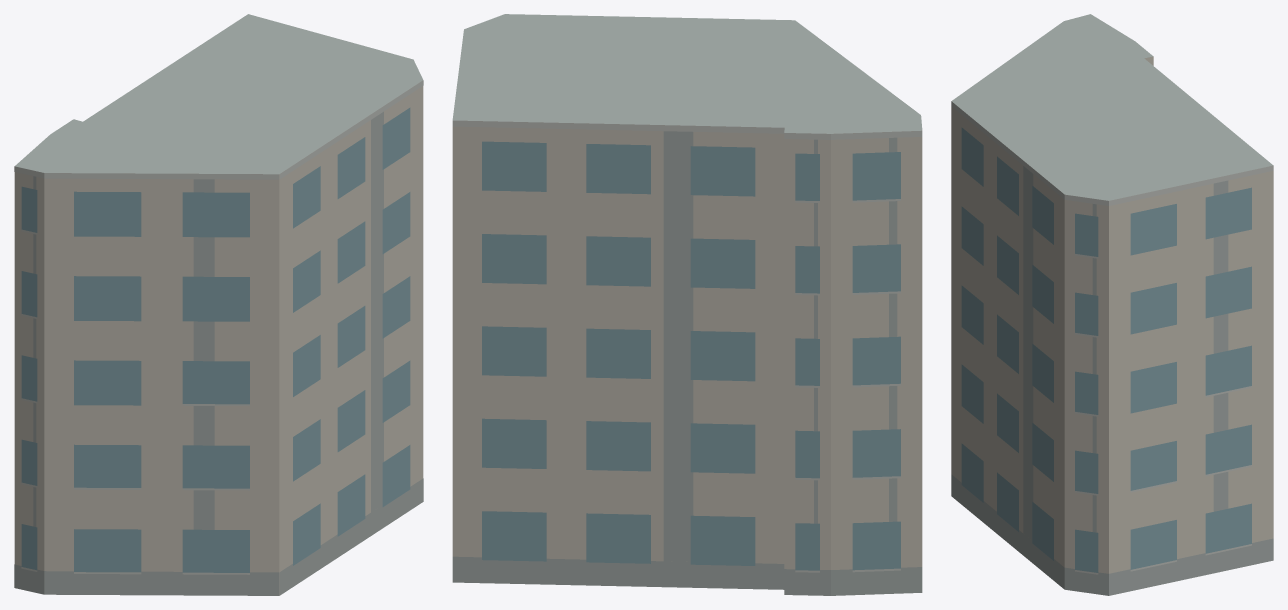
File: survey-upis-32832193.glb
3 renders of one model, left to right at view 1: azimuth 30°, elevation 25°; view 2: azimuth 150°, elevation 25°; view 3: azimuth 270°, elevation 25°, orthographic. The views are drawn at different scales.
Parts seen in each view (by area): view 1: survey-upis-32832193.tmp; view 2: survey-upis-32832193.tmp; view 3: survey-upis-32832193.tmp.
Boxes of the visible parts, <box> form: survey-upis-32832193.tmp: <box>14,14,423,595</box>; survey-upis-32832193.tmp: <box>452,14,922,595</box>; survey-upis-32832193.tmp: <box>951,14,1273,595</box>.
Size of the model in its own units: 18.78 by 18.5 by 13.68.
